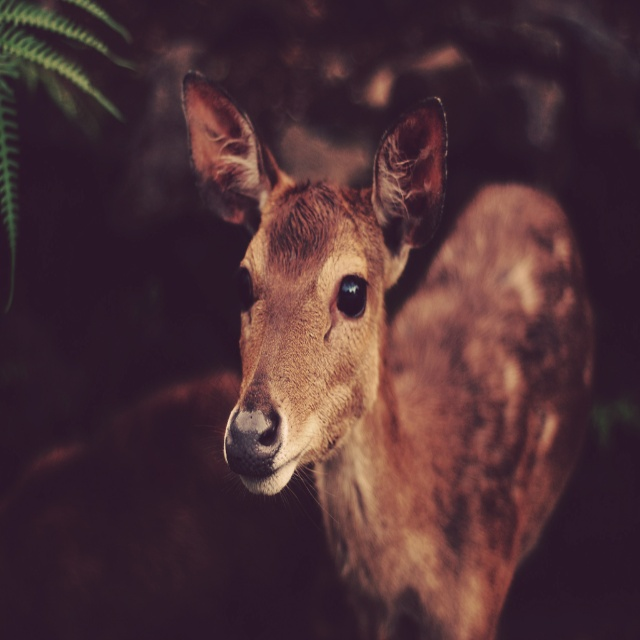Deer: (182, 69, 598, 639)
